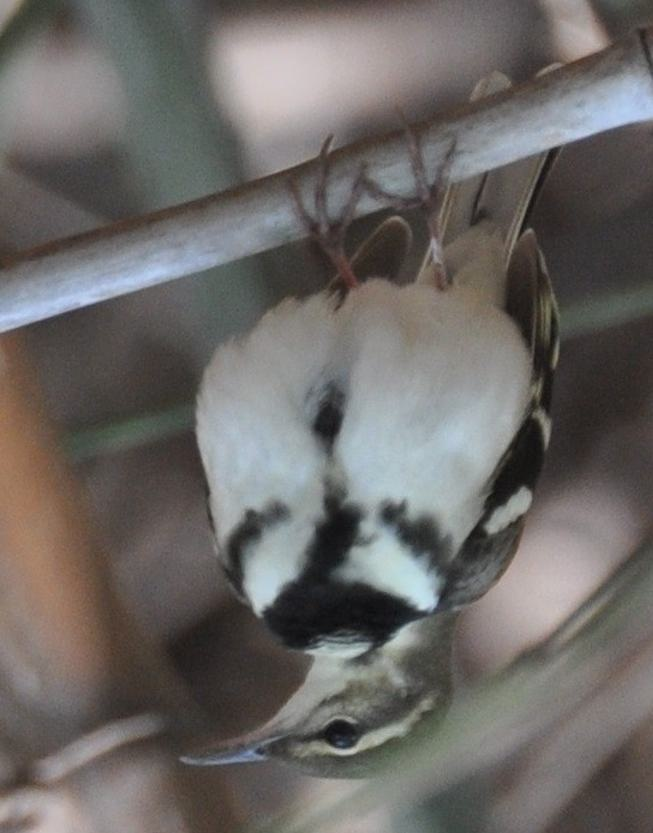wagtail: (192, 169, 570, 775)
